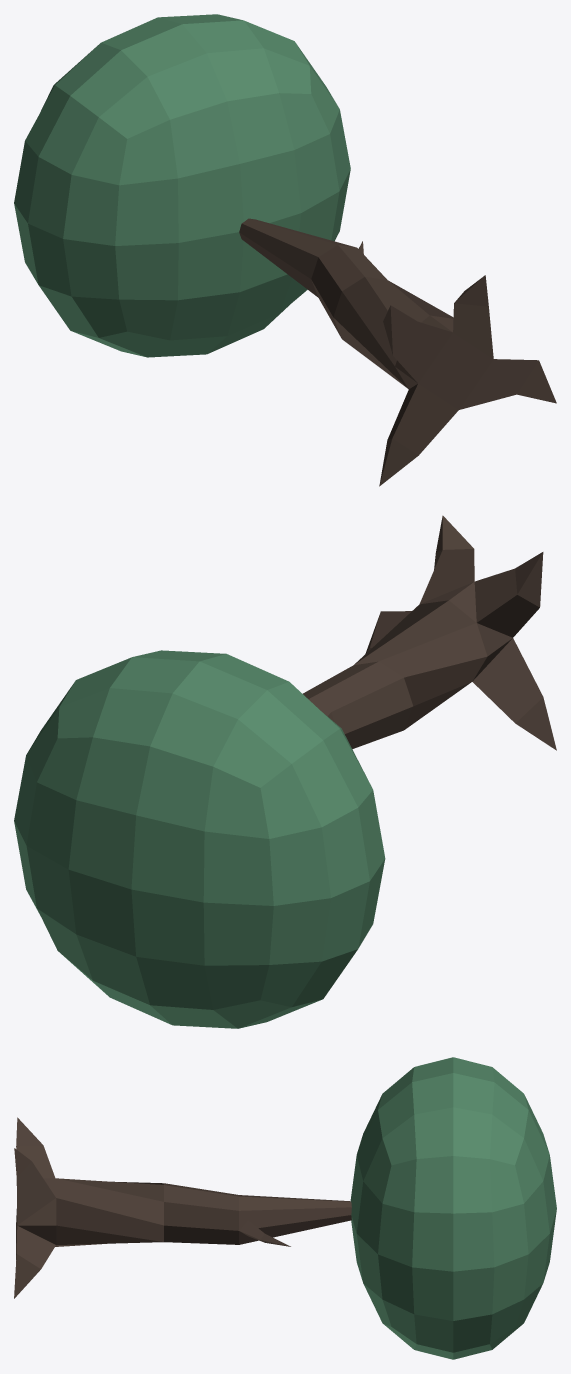
Rendered from tree_4_disturb.fbx.
3 renders of one model, top to bottom at view 1: azimuth 30°, elevation 25°; view 2: azimuth 150°, elevation 25°; view 3: azimuth 270°, elevation 25°, orthographic. The views are drawn at different scales.
Parts seen in each view (by area): view 1: Cube; view 2: Cube; view 3: Cube.
Boxes of the visible parts, left/top/right/bottom form: Cube: left=14, top=14, right=556, bottom=486; Cube: left=14, top=515, right=556, bottom=1028; Cube: left=14, top=1057, right=556, bottom=1359.
Size of the model in its own units: 60076 by 60076 by 109055.
